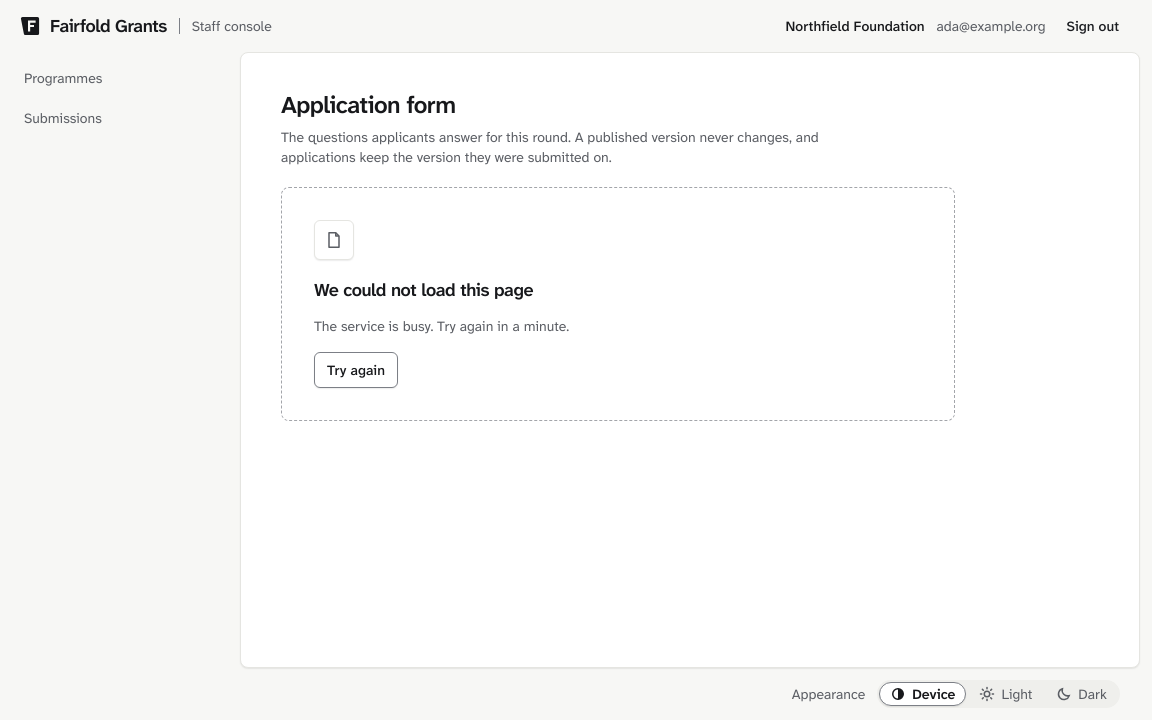
Test: a round's form › shows why it could not load, and loads again on trying again
Expected: the text "The service is busy. Try again in a minute." is shown, [314,316,569,336]
Expected: the heading "Application form" is shown, [281,89,455,121]
Click the button "Try again" at [356, 370], box [314,352,398,388]
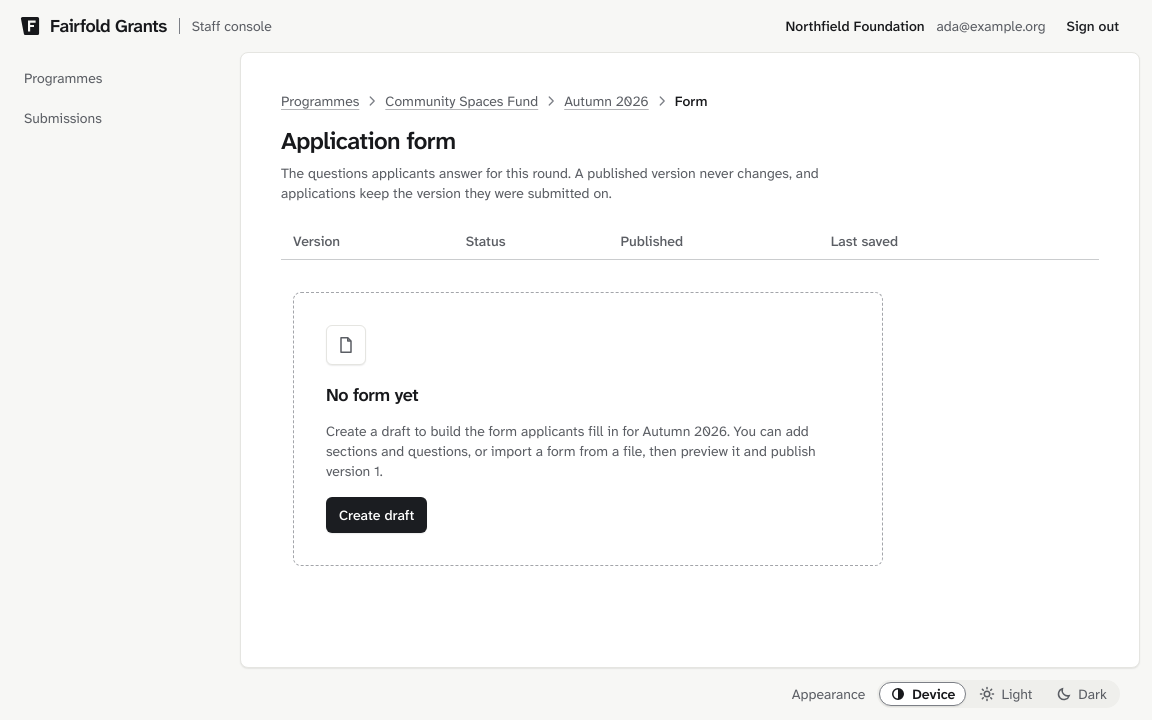
Expected: the heading "No form yet" is shown, [326,381,418,409]
